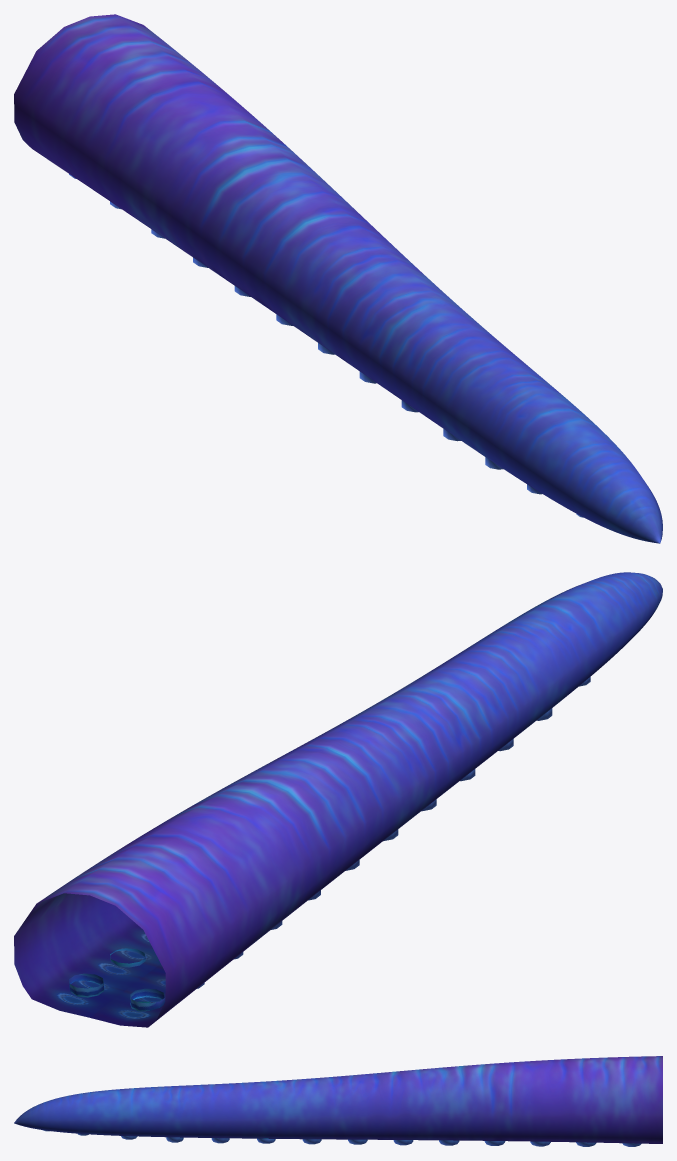
The model's file is Tentacle_2_1.fbx.
3 renders of one model, top to bottom at view 1: azimuth 30°, elevation 25°; view 2: azimuth 150°, elevation 25°; view 3: azimuth 270°, elevation 25°, orthographic. The views are drawn at different scales.
Parts seen in each view (by area): view 1: Tentacle_2_1; view 2: Tentacle_2_1; view 3: Tentacle_2_1.
Part boxes in pixels (bbox=[...]): Tentacle_2_1: bbox=[14, 14, 662, 543]; Tentacle_2_1: bbox=[14, 572, 662, 1027]; Tentacle_2_1: bbox=[14, 1056, 662, 1146].
Bounding box in the file's own units: 308 × 251 × 2000.
